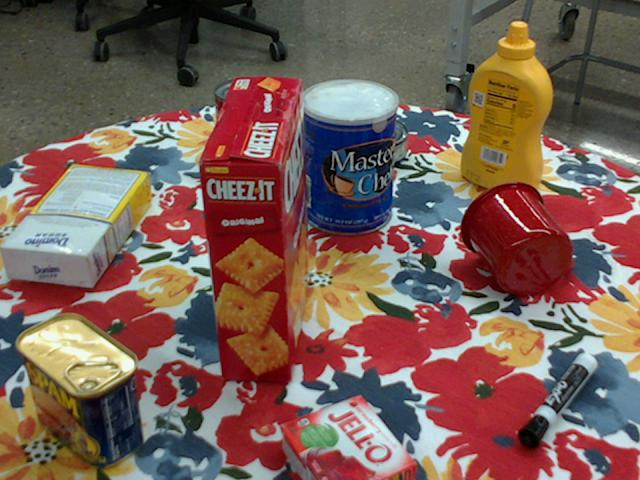cracker_box: (193, 77, 308, 383)
gelatin_box: (281, 395, 420, 479)
large_marker: (520, 351, 599, 445)
master_chef_can: (301, 78, 399, 236)
mug: (460, 180, 575, 295)
mustard_bottle: (460, 22, 552, 195)
potted_meat_can: (12, 313, 142, 467)
sugar_box: (0, 165, 151, 289)
tomato_soup_can: (214, 78, 273, 179)
tuna_fish_can: (342, 116, 410, 169)
